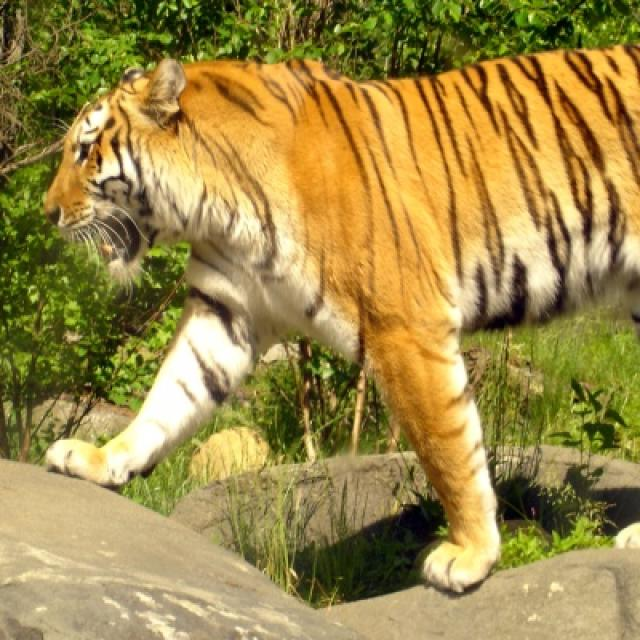Tiger: (46, 44, 638, 600)
